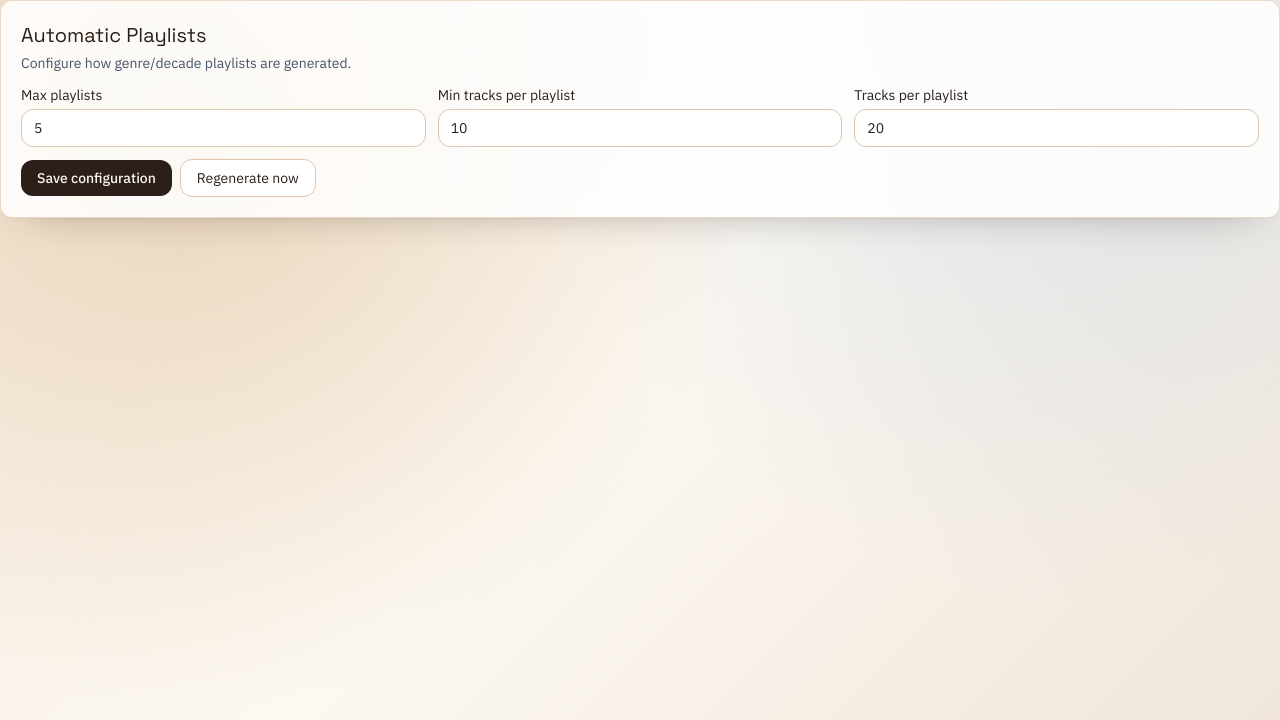
Scenario: AutoPlaylistConfigPanel › submits a patch with parsed integer values
Replace the text in the number field showing "5" with "9" at (223, 128), box [21,109,426,147]
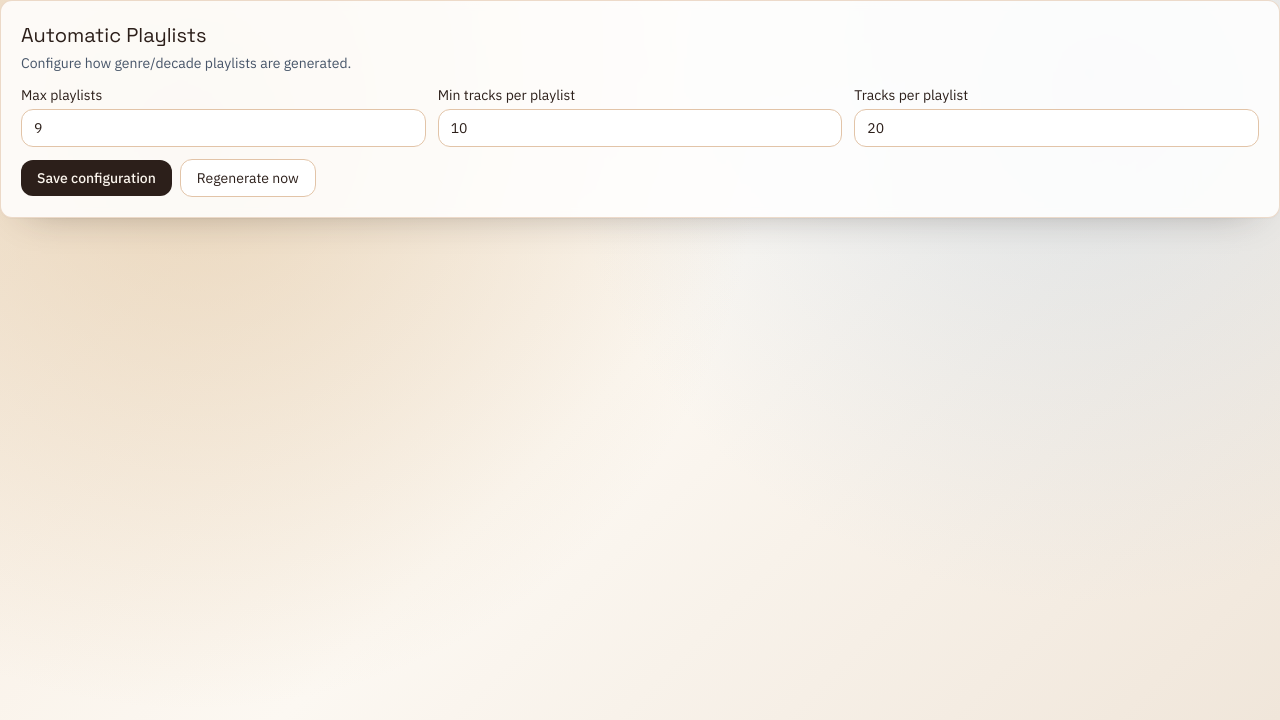
Click the button "Save configuration" at (96, 178), box [21,160,172,196]
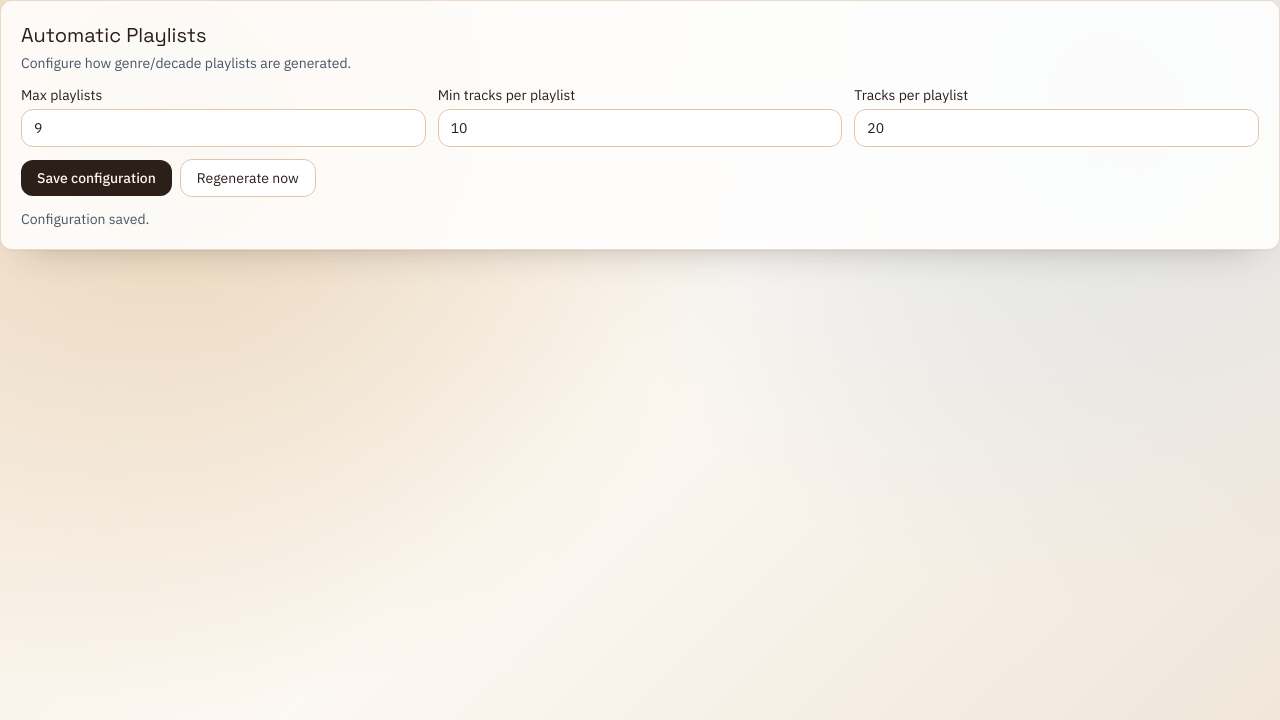
Check: the text "Configuration saved." is shown, box [21,210,149,228]
